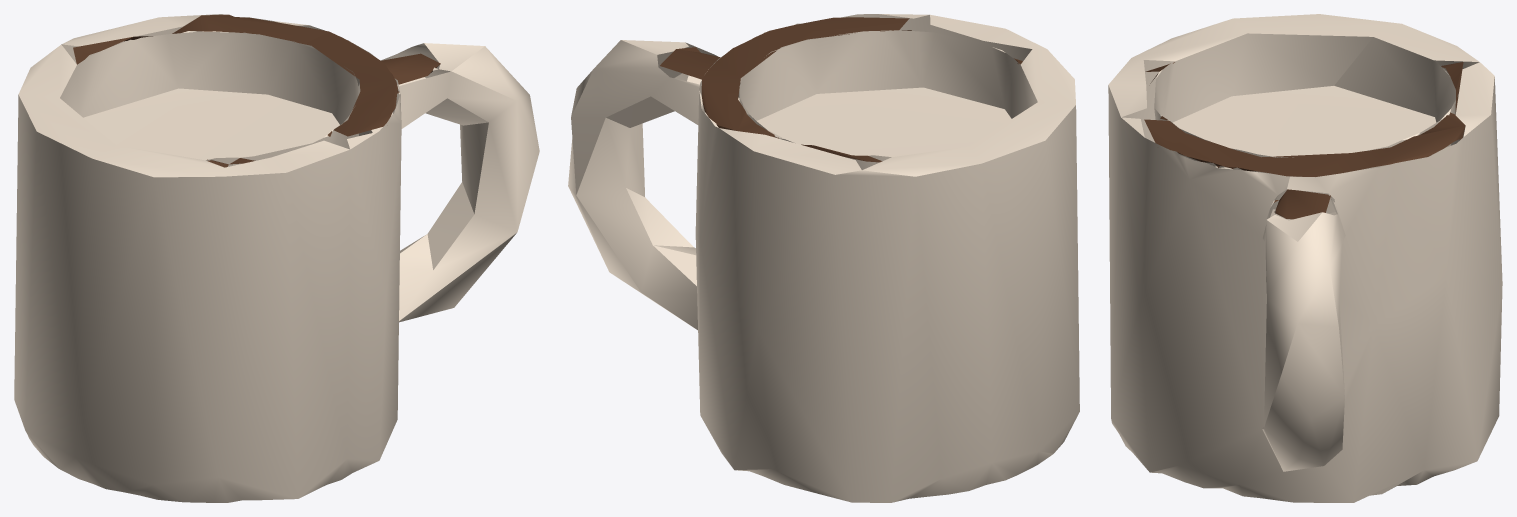
The model's file is mug.glb.
3 renders of one model, left to right at view 1: azimuth 30°, elevation 25°; view 2: azimuth 150°, elevation 25°; view 3: azimuth 270°, elevation 25°, orthographic.
Visible parts, largest first — view 1: mug_ceramic, mug_coffee; view 2: mug_ceramic, mug_coffee; view 3: mug_ceramic, mug_coffee.
Boxes of the visible parts, box(x1,y1,x2,y2) form: mug_ceramic: box(14, 14, 539, 502); mug_coffee: box(73, 14, 440, 167); mug_ceramic: box(568, 14, 1079, 502); mug_coffee: box(660, 17, 1022, 162); mug_ceramic: box(1108, 14, 1502, 502); mug_coffee: box(1144, 62, 1465, 219).
Bounding box in the file's own units: 0.1991 × 0.1314 × 0.139.
